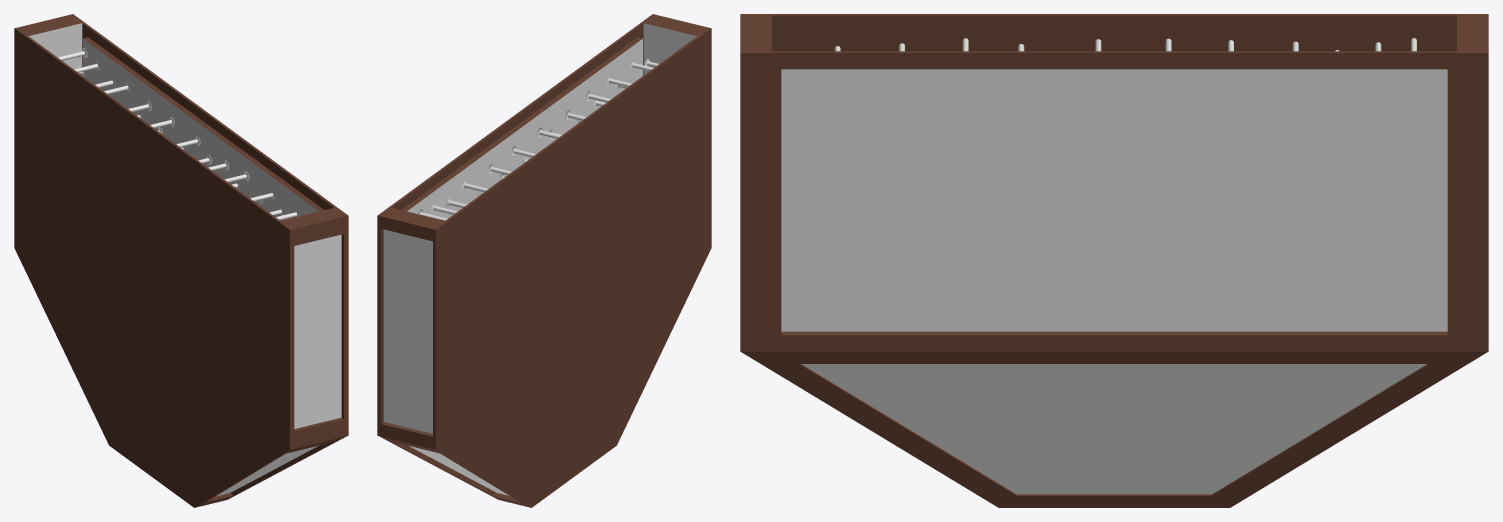
File: plinko box.fbx
3 views of the same model, side by side, from view 1: azimuth 30°, elevation 25°; view 2: azimuth 150°, elevation 25°; view 3: azimuth 270°, elevation 25° (orthographic). The views are drawn at different scales.
Visible parts, largest first — view 1: Box, Glass; view 2: Box, Glass; view 3: Glass, Box.
Boxes of the visible parts, <box> form: Box: <box>14,14,348,507</box>; Glass: <box>29,23,341,496</box>; Box: <box>377,14,711,507</box>; Glass: <box>383,23,696,495</box>; Glass: <box>781,69,1447,494</box>; Box: <box>740,14,1488,507</box>.
Size of the model in its own units: 96.84 by 544 by 782.
